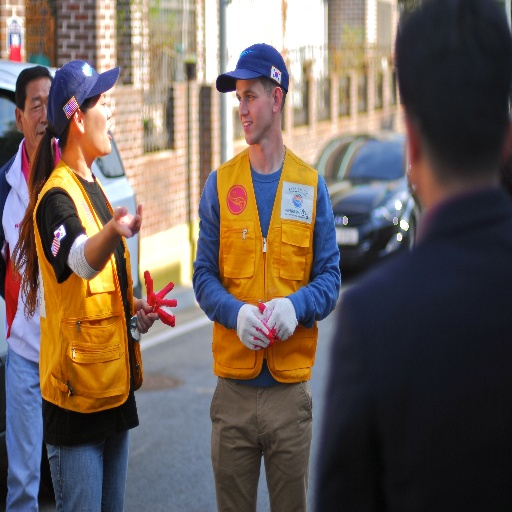hand: (258, 294, 296, 339), (237, 299, 270, 349), (110, 202, 144, 239), (134, 296, 160, 334)
